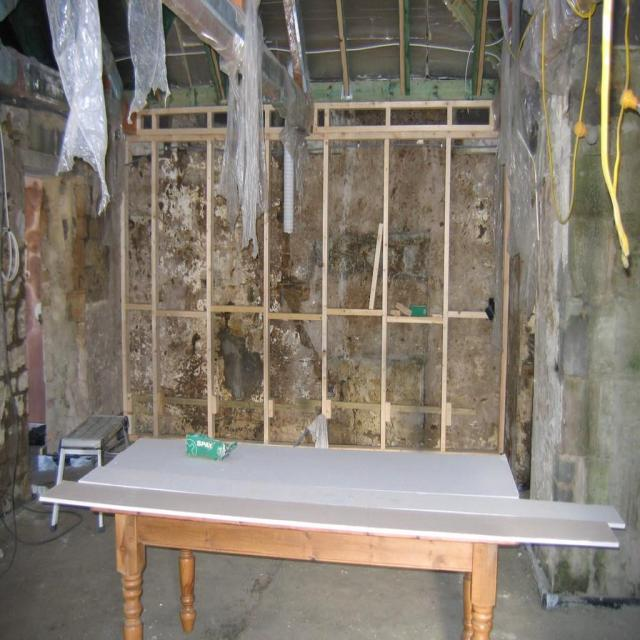table: (43, 435, 626, 633)
